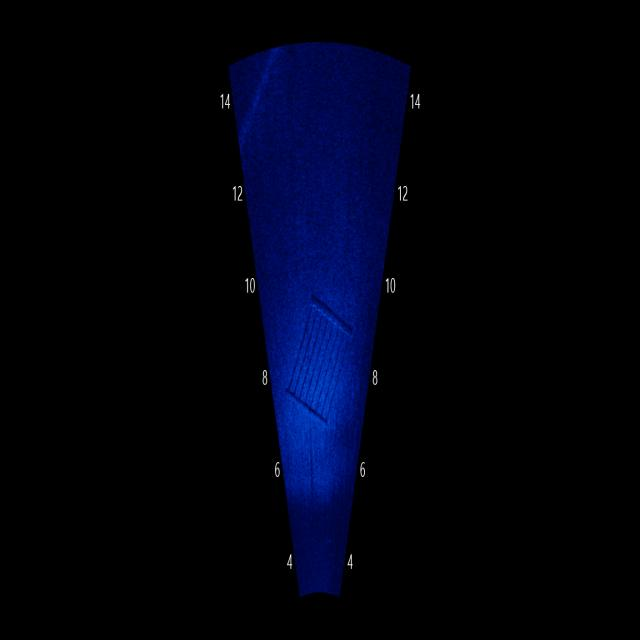square: (280, 281, 356, 443)
